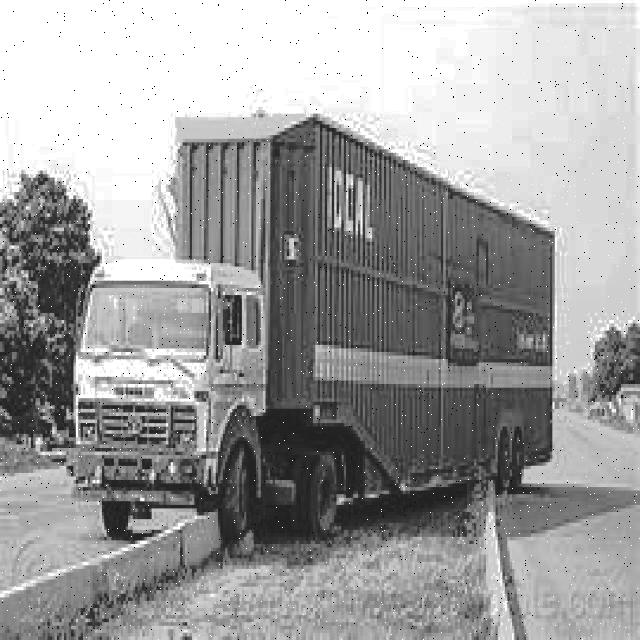HCV: (59, 79, 595, 569)
